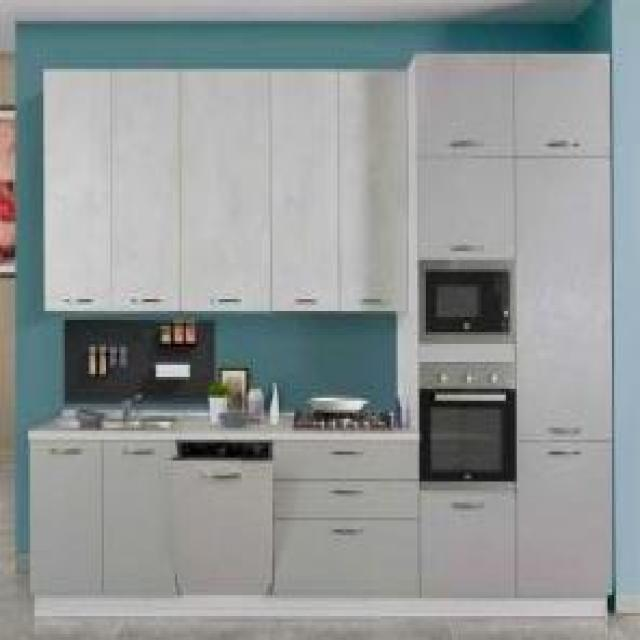dishwasher: (165, 437, 272, 598)
